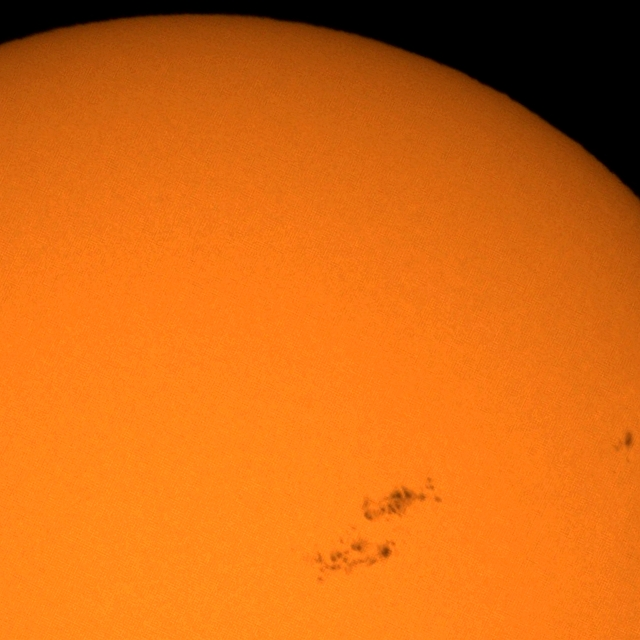sunspot: (322, 532, 394, 574), (374, 480, 445, 522), (356, 484, 419, 524), (613, 432, 637, 466)
